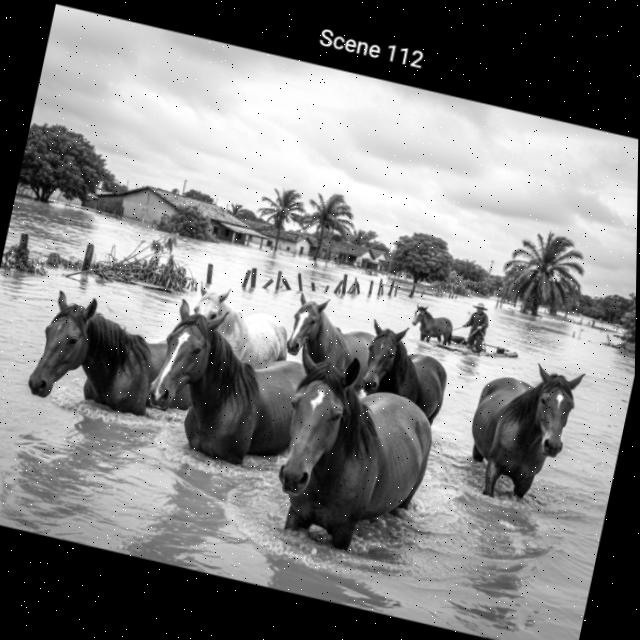civilian: (459, 298, 495, 353)
horse: (252, 334, 461, 579), (135, 290, 331, 483), (21, 277, 219, 444), (453, 348, 590, 521), (346, 313, 467, 449), (273, 289, 398, 410), (179, 277, 305, 385), (404, 301, 465, 352)
